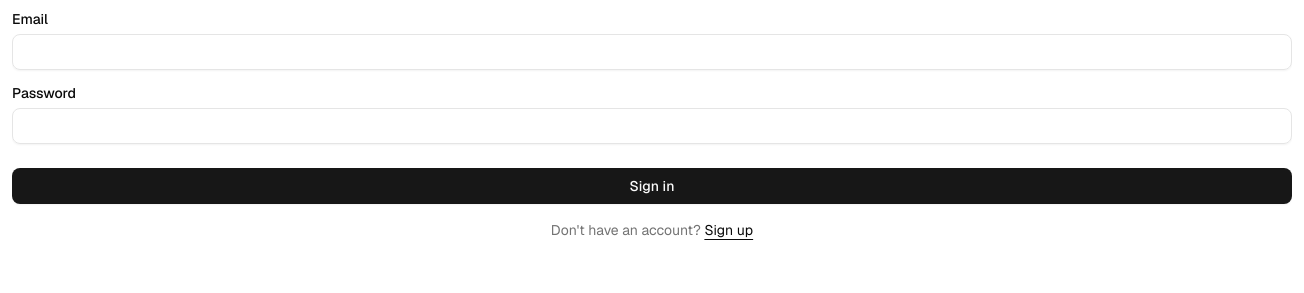
Scenario: LoginForm › surfaces a server-returned error
Type "ada@example.com" into the field labelled "Email". click: (652, 52)
box: [12, 34, 1292, 70]
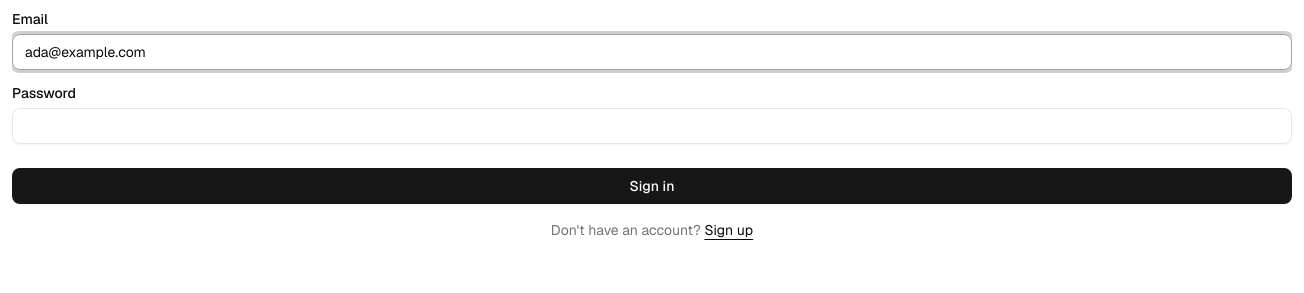
Type "wrongpassword" into the password field labelled "Password". click: (652, 126)
box: [12, 108, 1292, 144]
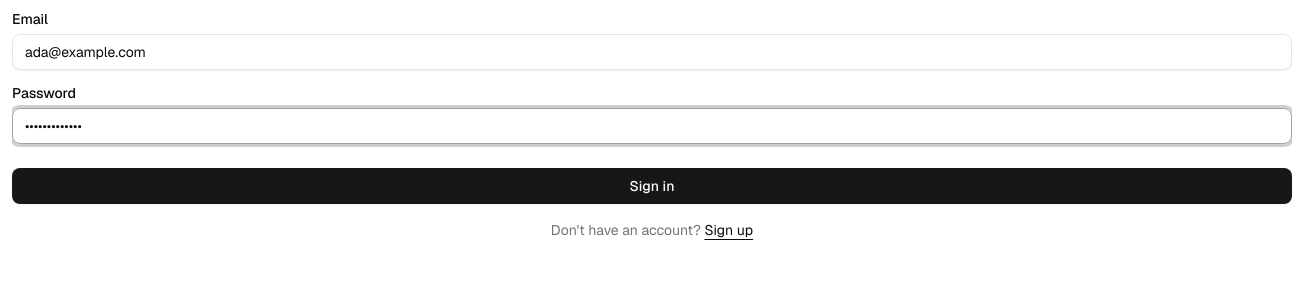
Click the button "Sign in". click: (652, 186)
box: [12, 168, 1292, 204]
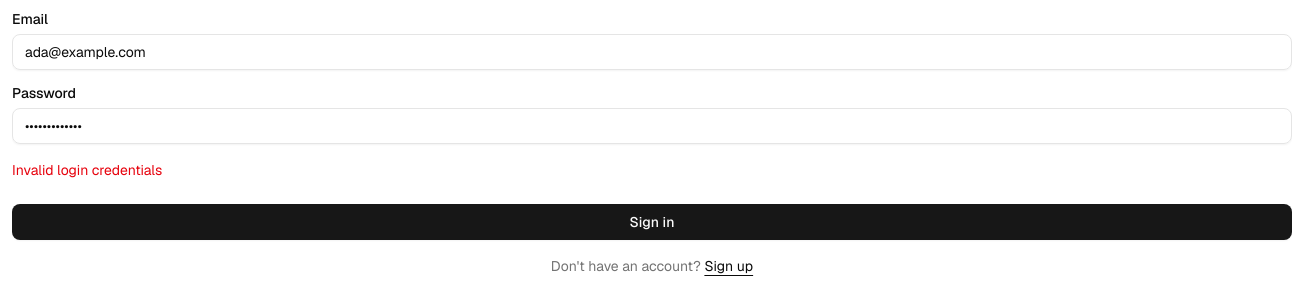
Expected: the text "Invalid login credentials" is shown, [12, 161, 162, 179]
